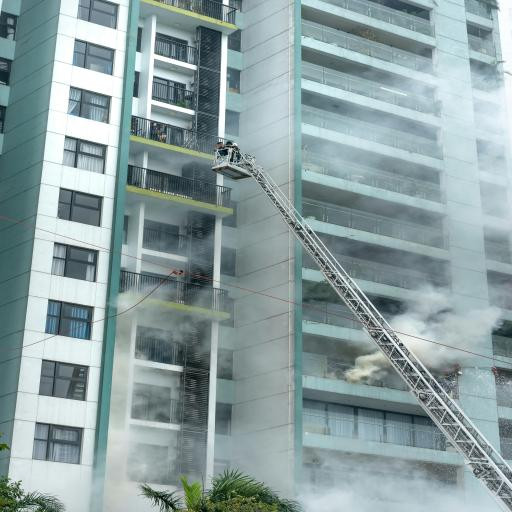smoke: (0, 121, 499, 512), (219, 0, 512, 452)
